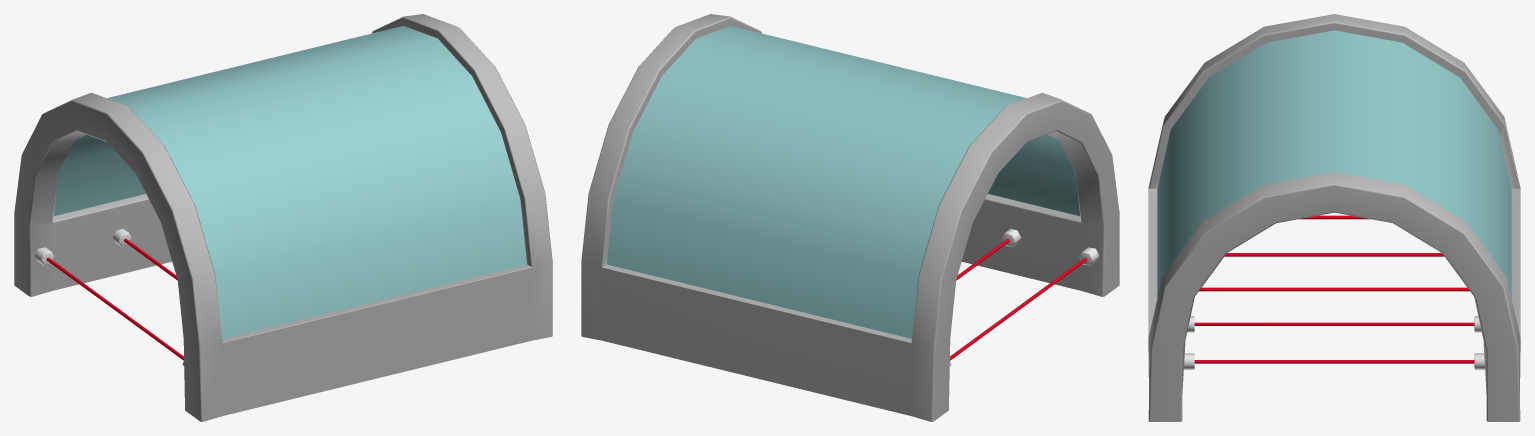
The model's file is Lazer_place.fbx.
3 renders of one model, left to right at view 1: azimuth 30°, elevation 25°; view 2: azimuth 150°, elevation 25°; view 3: azimuth 270°, elevation 25°, orthographic.
Parts seen in each view (by area): view 1: Base, Lazers; view 2: Base, Lazers; view 3: Base, Lazers.
Part boxes in pixels (x1,y1,x2,y2): Base: [14, 14, 552, 421]; Lazers: [46, 238, 183, 360]; Base: [581, 14, 1119, 421]; Lazers: [950, 238, 1087, 360]; Base: [1148, 14, 1520, 421]; Lazers: [1194, 215, 1474, 363].
Bounding box in the file's own units: 8.18 × 5.34 × 7.51.
